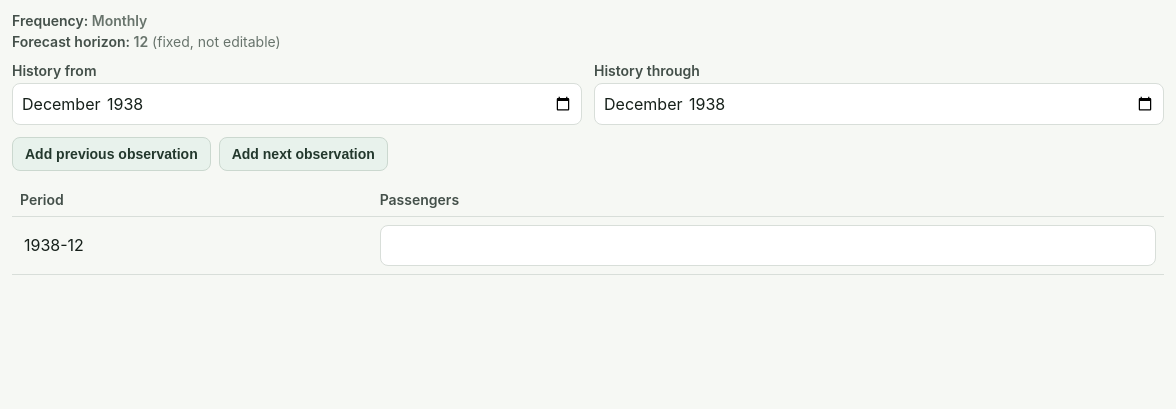
it: HistorySeriesInput guided month-range builder (Project Spec S0268) › supports periods earlier than the anchor through History from
Replace the text in the field labelled "History from" with "1938-10": [297, 104] box [12,83,582,125]
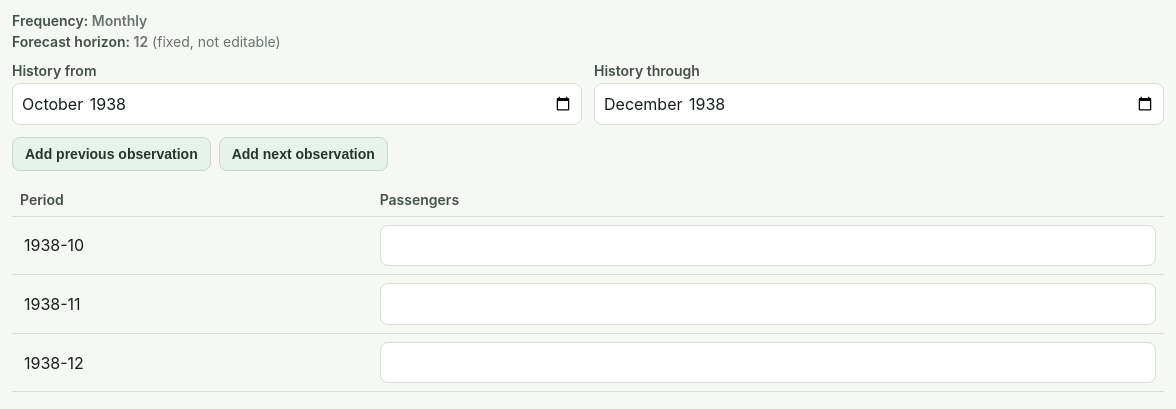
Check: the text "1938-10" is shown, box [20,235,88,255]
Check: the text "1938-11" is shown, box [20,294,85,314]
Check: the number of number fields named "Passengers" is 3, box [380,225,1156,266]; [380,283,1156,325]; [380,342,1156,383]
